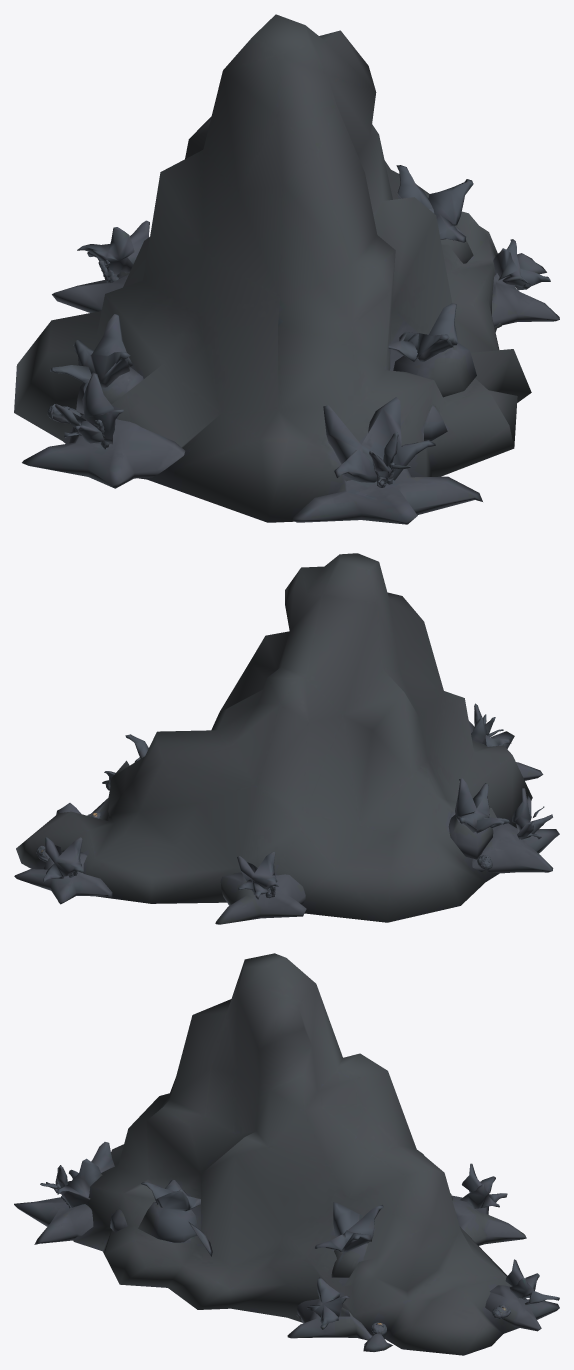
File: VAL_Capital_Environment_DistantMountain_B.glb
3 views of the same model, one above another, from view 1: azimuth 30°, elevation 25°; view 2: azimuth 150°, elevation 25°; view 3: azimuth 270°, elevation 25° (orthographic). The views are drawn at different scales.
Parts seen in each view (by area): view 1: tripo_node_5e47375b-d64e-4655-93fc-b91cf3a5e53c; view 2: tripo_node_5e47375b-d64e-4655-93fc-b91cf3a5e53c; view 3: tripo_node_5e47375b-d64e-4655-93fc-b91cf3a5e53c.
Boxes of the visible parts, left/top/right/bottom form: tripo_node_5e47375b-d64e-4655-93fc-b91cf3a5e53c: left=14, top=14, right=559, bottom=524; tripo_node_5e47375b-d64e-4655-93fc-b91cf3a5e53c: left=14, top=553, right=559, bottom=924; tripo_node_5e47375b-d64e-4655-93fc-b91cf3a5e53c: left=14, top=953, right=559, bottom=1355.
Size of the model in its own units: 0.9316 by 0.5723 by 0.998.
Materials: 1 (1 with a texture image).
